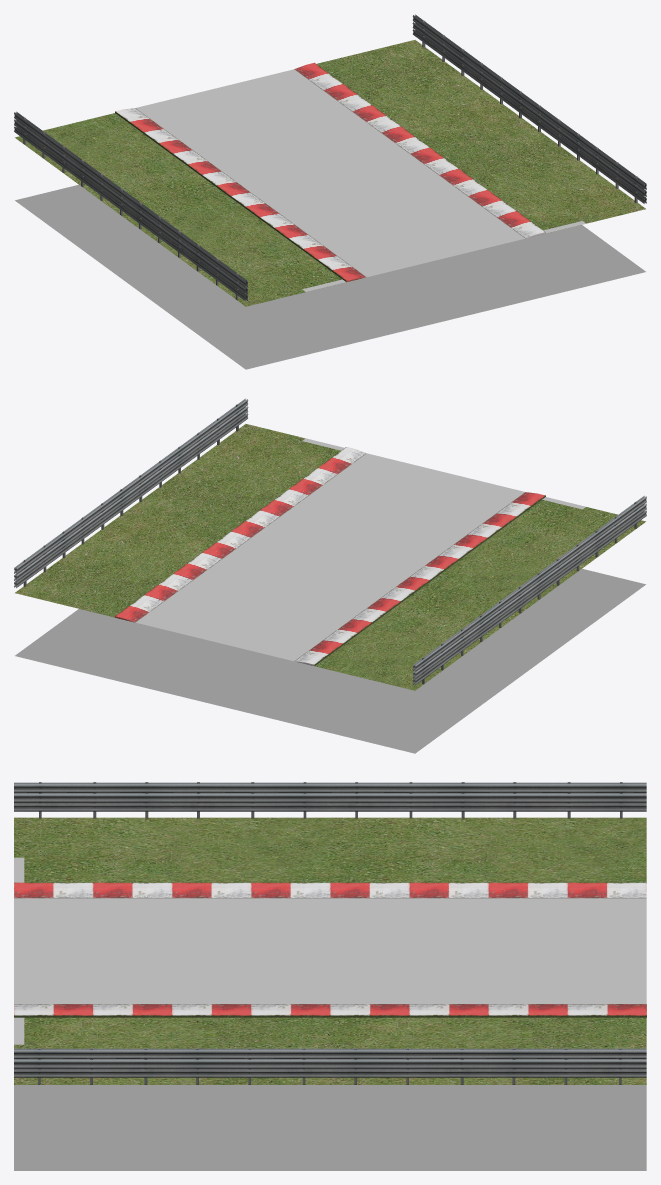
File: Track_Thin_Join_B.fbx
3 renders of one model, top to bottom at view 1: azimuth 30°, elevation 25°; view 2: azimuth 150°, elevation 25°; view 3: azimuth 270°, elevation 25°, orthographic. The views are drawn at different scales.
Visible parts, largest first — view 1: Grass, Snap_Plane_Invisible, Road, Rail_A, Rail_B, Curb_B, Curb_A; view 2: Grass, Snap_Plane_Invisible, Road, Rail_A, Rail_B, Curb_B, Curb_A; view 3: Road, Grass, Snap_Plane_Invisible, Rail_A, Rail_B, Curb_A, Curb_B, Join_Lines.
Part boxes in pixels (x1,y1,x2,y2): Grass: (15, 40, 645, 306); Snap_Plane_Invisible: (15, 184, 645, 369); Road: (136, 69, 524, 276); Rail_A: (14, 111, 248, 300); Rail_B: (412, 14, 646, 203); Curb_B: (294, 62, 545, 238); Curb_A: (115, 108, 366, 282); Grass: (15, 424, 645, 690); Snap_Plane_Invisible: (15, 568, 645, 753); Road: (136, 453, 524, 661); Rail_A: (412, 495, 646, 684); Rail_B: (14, 398, 248, 587); Curb_B: (115, 447, 366, 622); Curb_A: (294, 492, 545, 666); Road: (14, 898, 646, 1003); Grass: (14, 817, 646, 1084); Snap_Plane_Invisible: (14, 1085, 646, 1170); Rail_A: (14, 782, 646, 818); Rail_B: (14, 1048, 646, 1084); Curb_A: (14, 882, 646, 898); Curb_B: (14, 1004, 646, 1017); Join_Lines: (14, 857, 24, 1044).
Bounding box in the file's own units: 20.05 × 4.24 × 20.01.
